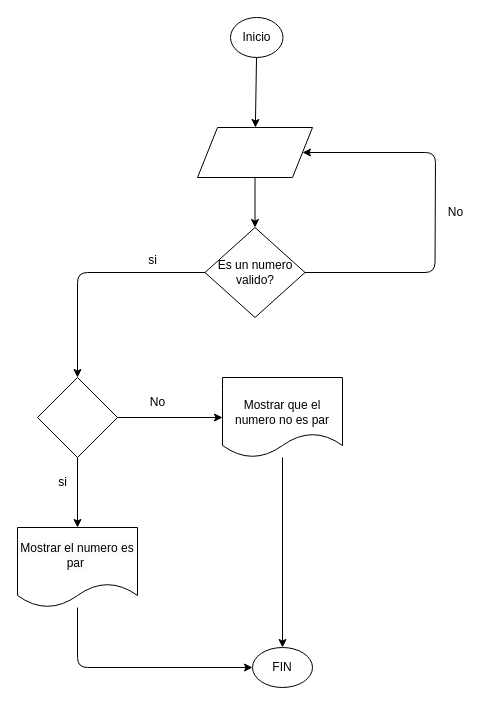
Some shapes in this 492 by 705 pixel diagram are drawn without their labels. The box of each missing label's shape, as (x1, y1, x2, y2) in pixels:
Es par?: (36, 376, 118, 458)
Leer numero 1: (196, 126, 312, 178)
